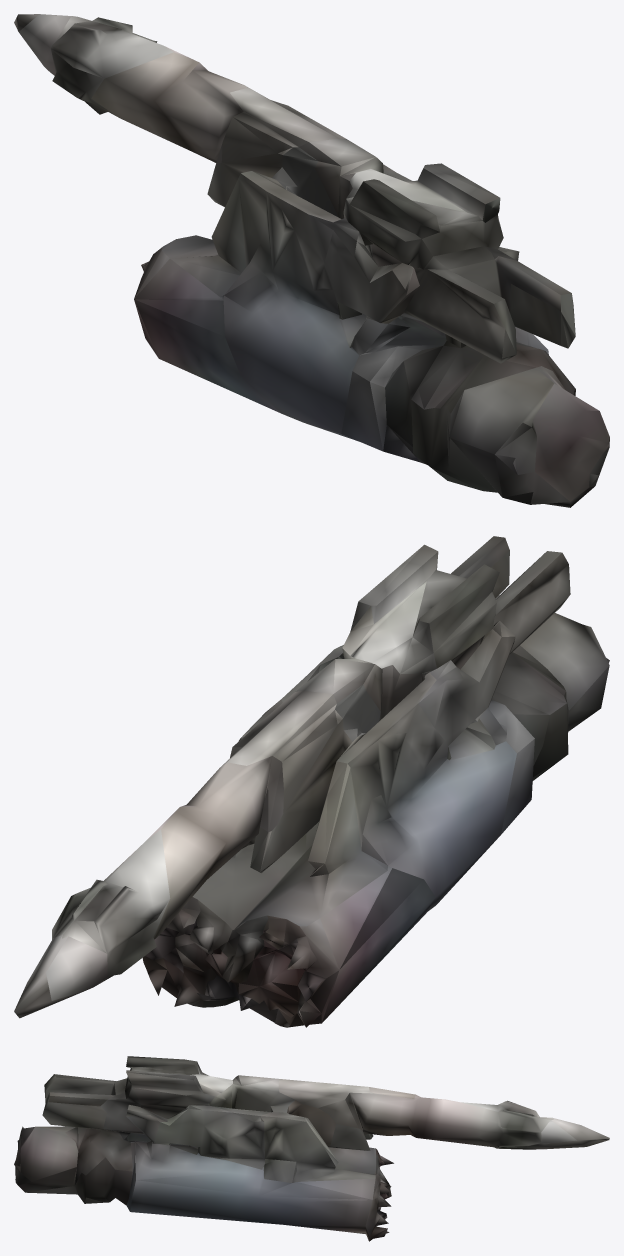
Rendered from rocket_pod.glb.
3 renders of one model, top to bottom at view 1: azimuth 30°, elevation 25°; view 2: azimuth 150°, elevation 25°; view 3: azimuth 270°, elevation 25°, orthographic. The views are drawn at different scales.
Parts seen in each view (by area): view 1: rocket_pod; view 2: rocket_pod; view 3: rocket_pod.
Boxes of the visible parts, left/top/right/bottom form: rocket_pod: left=14, top=14, right=609, bottom=507; rocket_pod: left=14, top=536, right=609, bottom=1027; rocket_pod: left=14, top=1056, right=609, bottom=1241.
Size of the model in its own units: 0.0811 by 0.1157 by 0.3797.
Materials: 1 (1 with a texture image).
